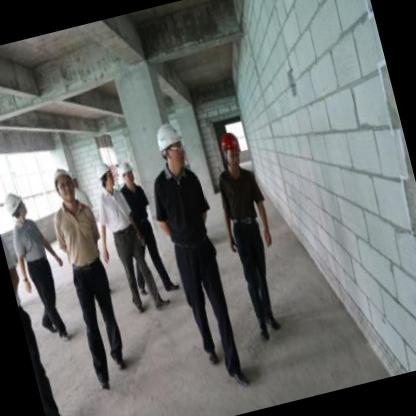helmet: (151, 117, 193, 179), (214, 128, 249, 181), (1, 184, 36, 228), (49, 165, 79, 209), (115, 153, 143, 197), (94, 157, 122, 199)
